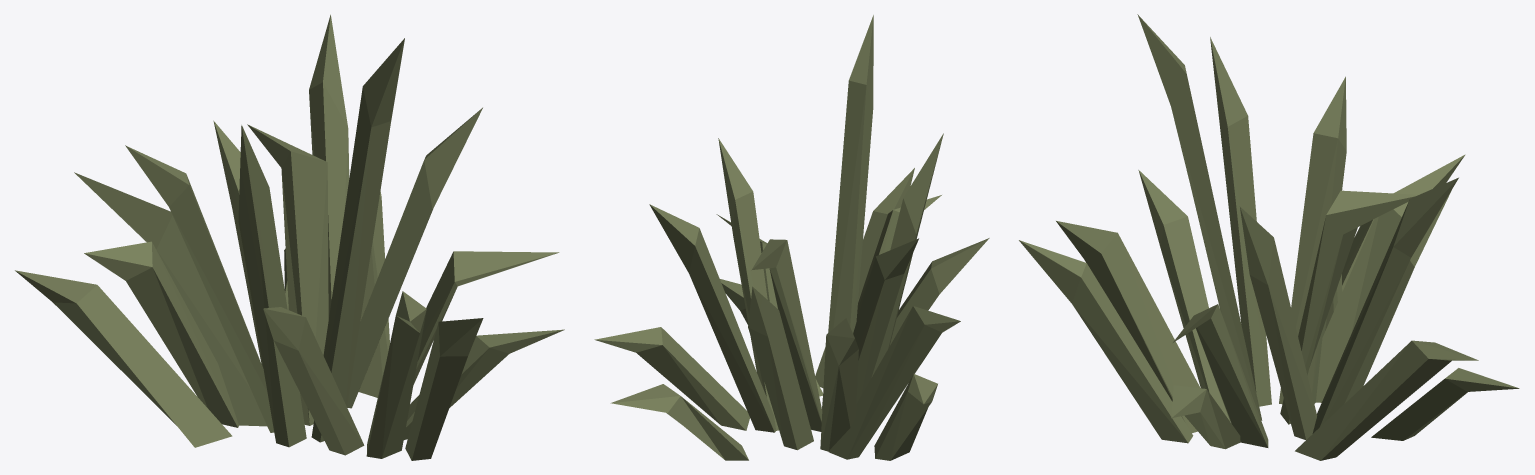
Rendered from SM_Env_Grass_03.glb.
3 views of the same model, side by side, from view 1: azimuth 30°, elevation 25°; view 2: azimuth 150°, elevation 25°; view 3: azimuth 270°, elevation 25° (orthographic). The views are drawn at different scales.
Visible parts, largest first — view 1: SM_Env_Grass_03; view 2: SM_Env_Grass_03; view 3: SM_Env_Grass_03.
Part boxes in pixels (bbox=[...]): SM_Env_Grass_03: bbox=[15, 14, 564, 460]; SM_Env_Grass_03: bbox=[594, 15, 989, 460]; SM_Env_Grass_03: bbox=[1019, 14, 1519, 460].
Size of the model in its own units: 0.0111 by 0.0116 by 0.0129.
Materials: 1 (1 with a texture image).
